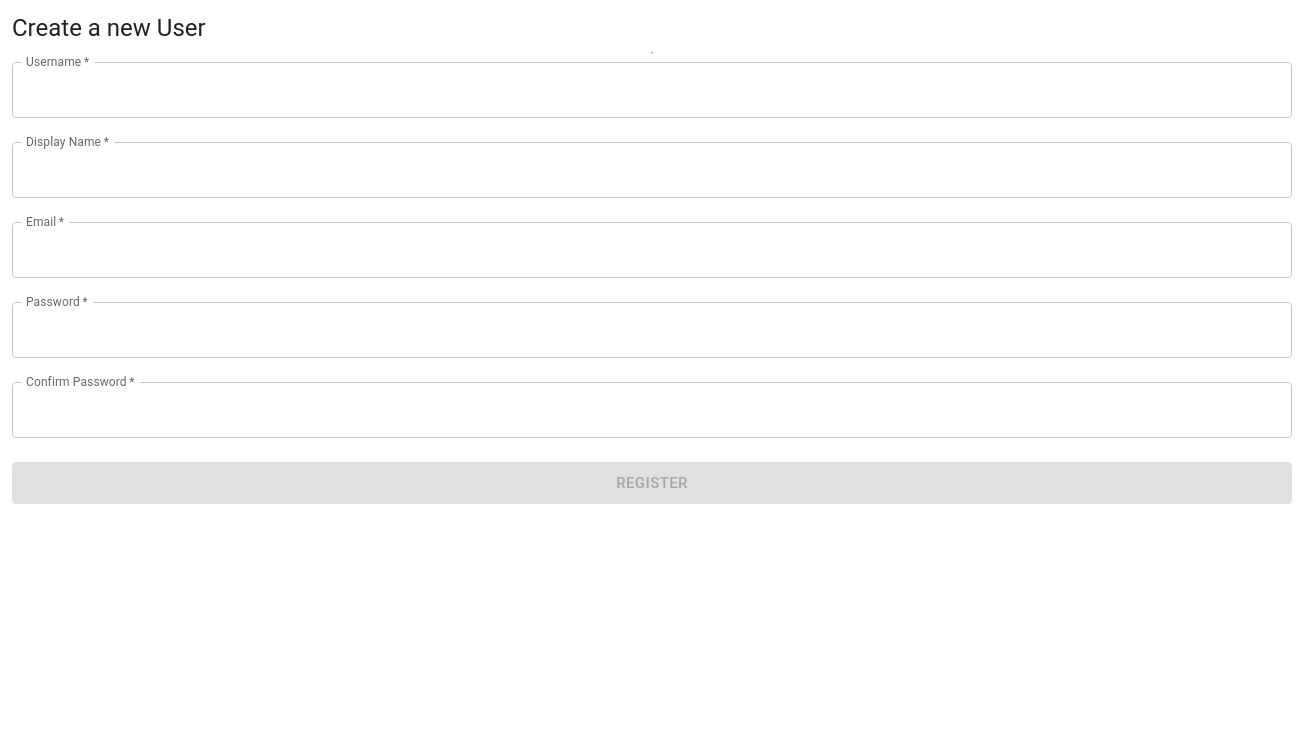
it: RegisterView › validates email format
The image size is (1304, 732).
Type "testuser" into the field labelled "Username *" at x=652, y=90, box [12,62,1292,118]
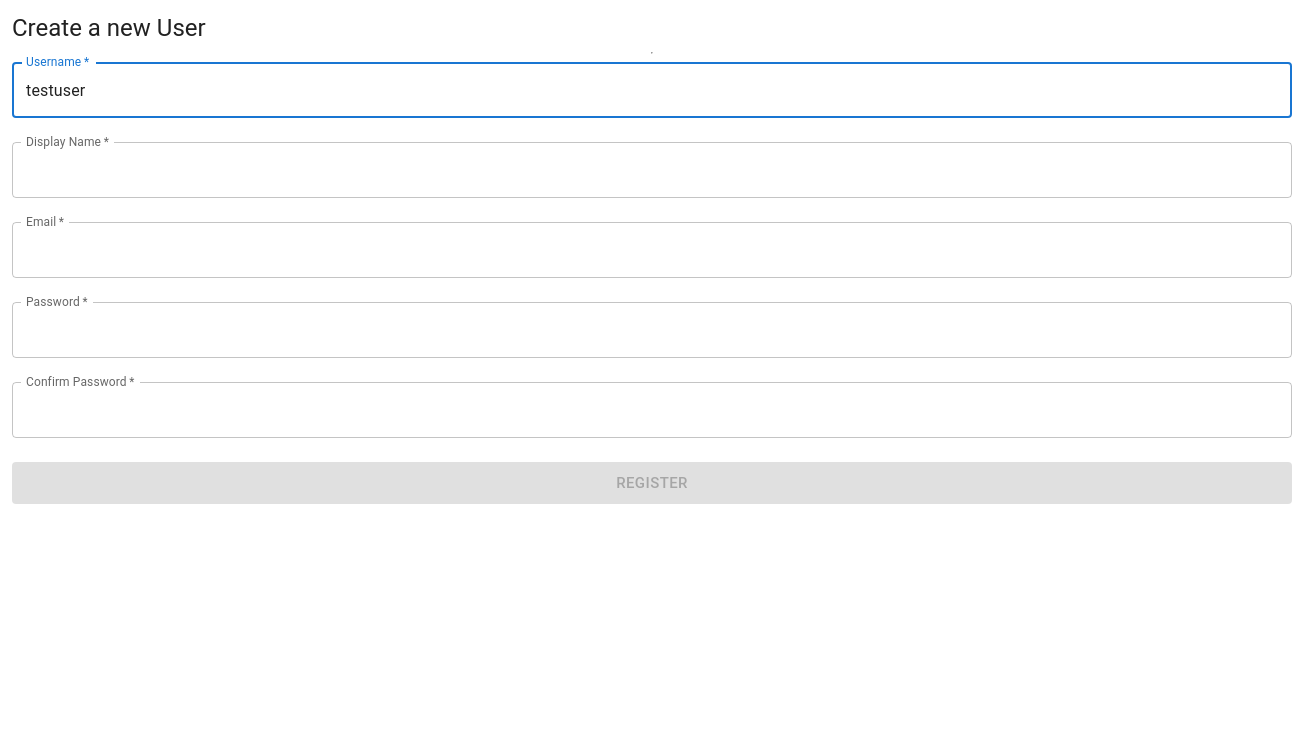
Type "Test User" into the field labelled "Display Name *" at x=652, y=170, box [12,142,1292,198]
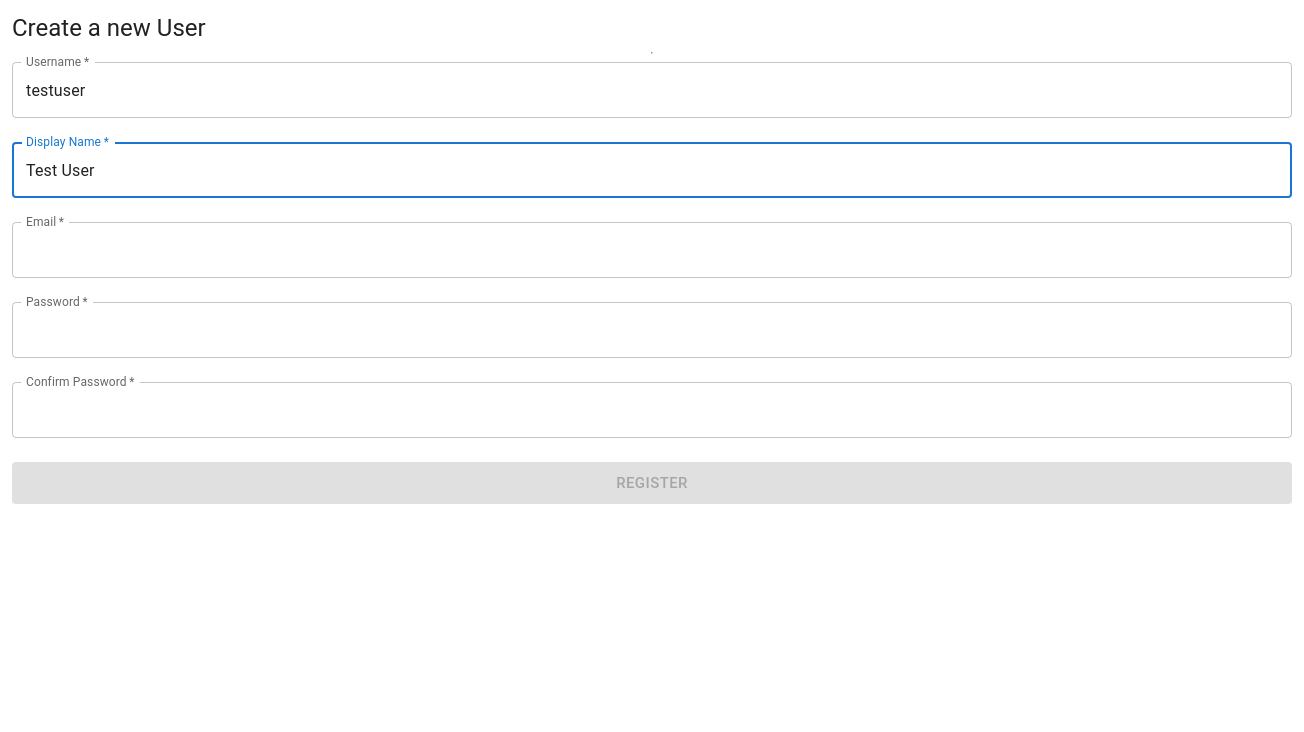
Type "Password123!" into the password field labelled "Password *" at x=629, y=330, box [12,302,1246,358]
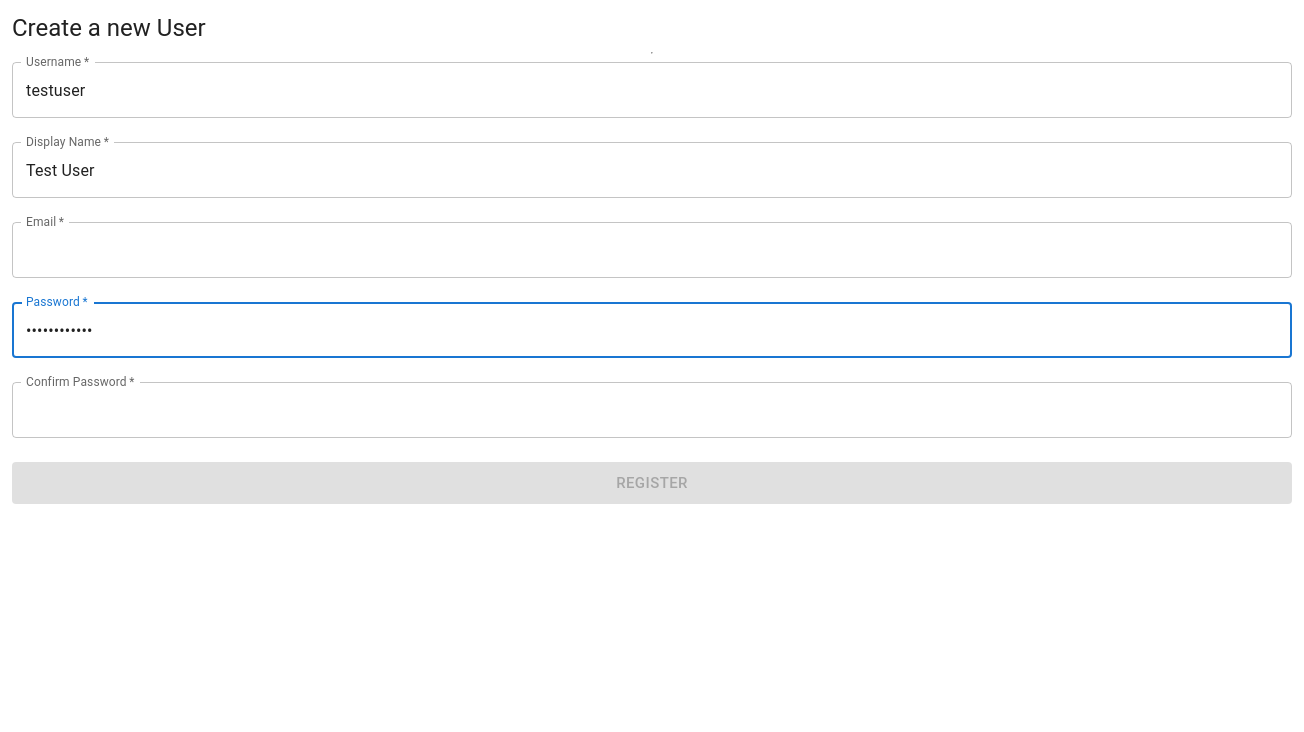
Type "Password123!" into the password field labelled "Confirm Password *" at x=629, y=410, box [12,382,1246,438]
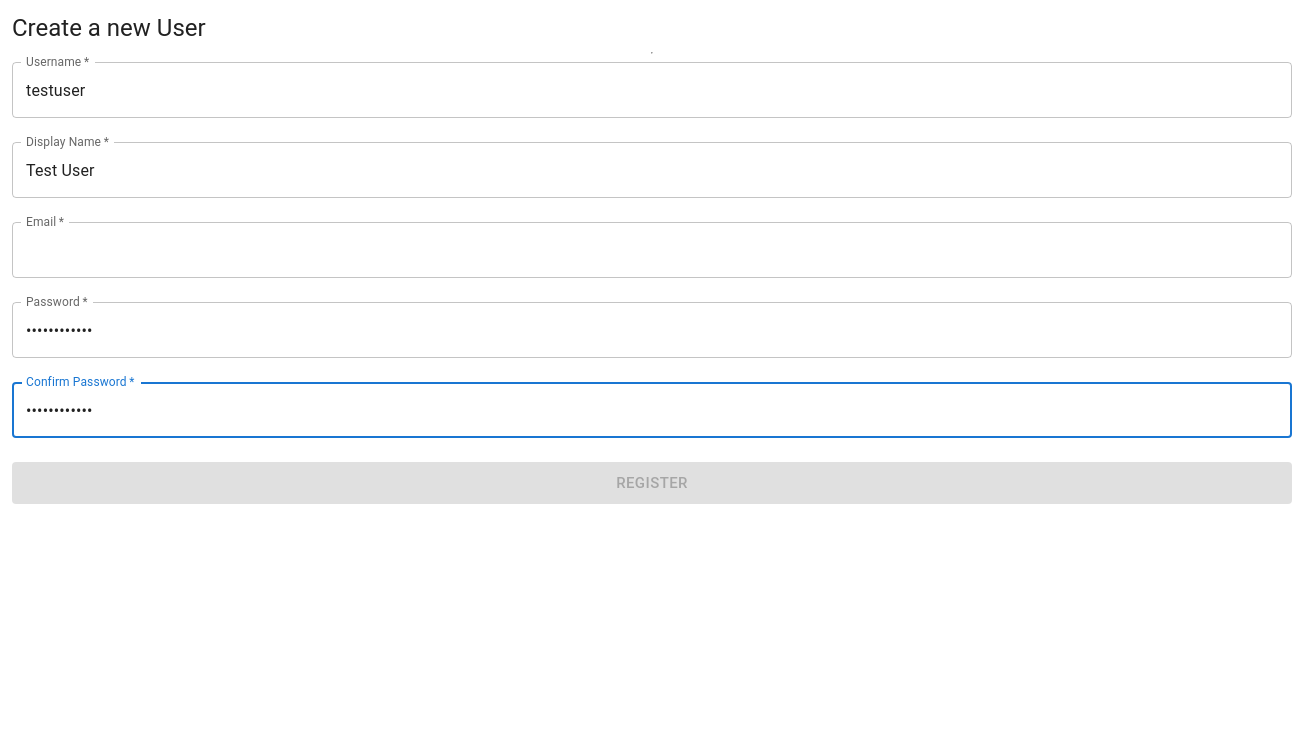
Type "invalid-email" into the field labelled "Email *" at x=652, y=250, box [12,222,1292,278]
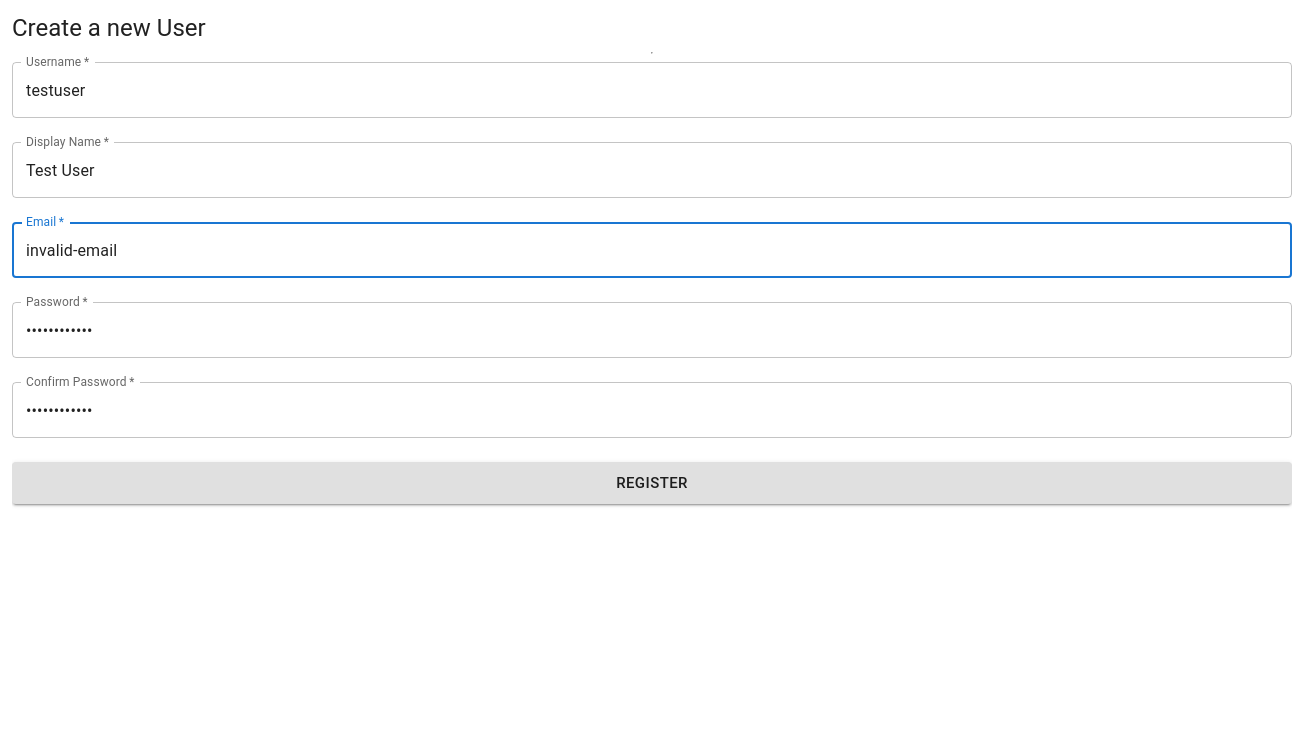
Click the button "Register" at x=652, y=483, box [12,462,1292,504]
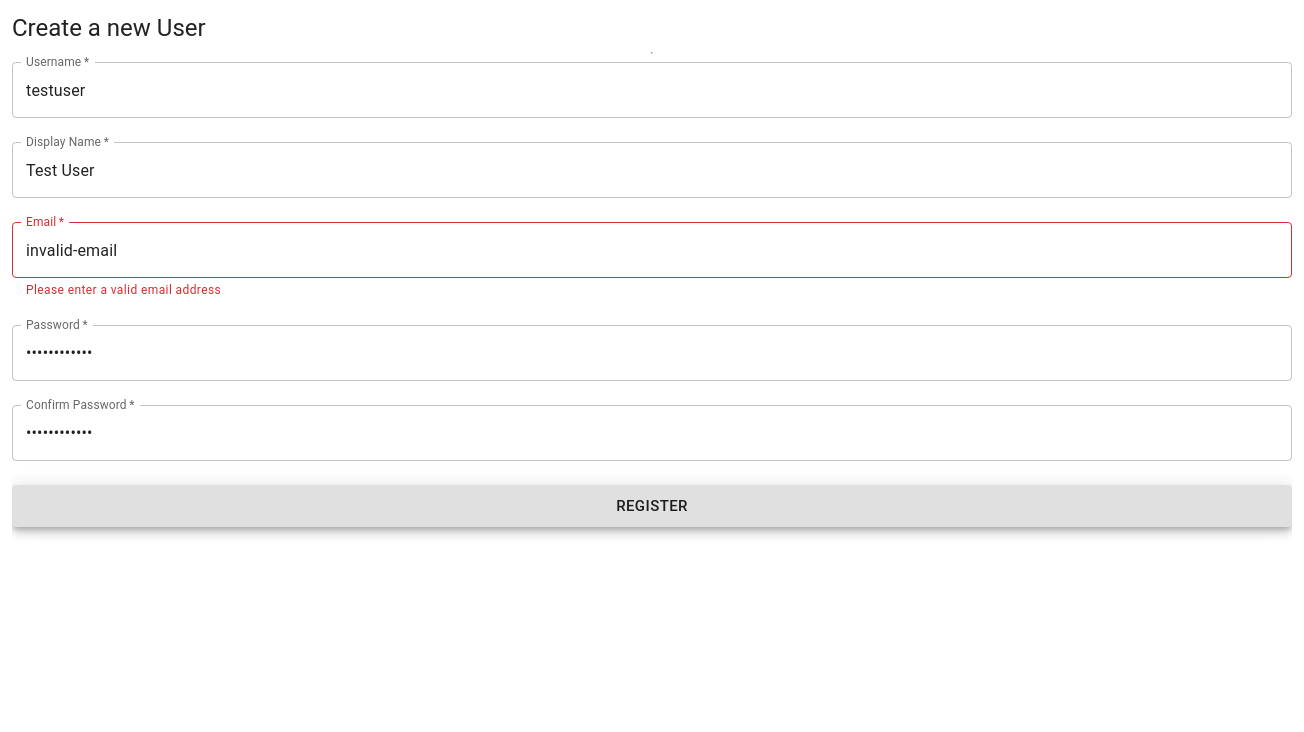
Check: the text "Please enter a valid email address" is shown, box [26,283,221,297]
